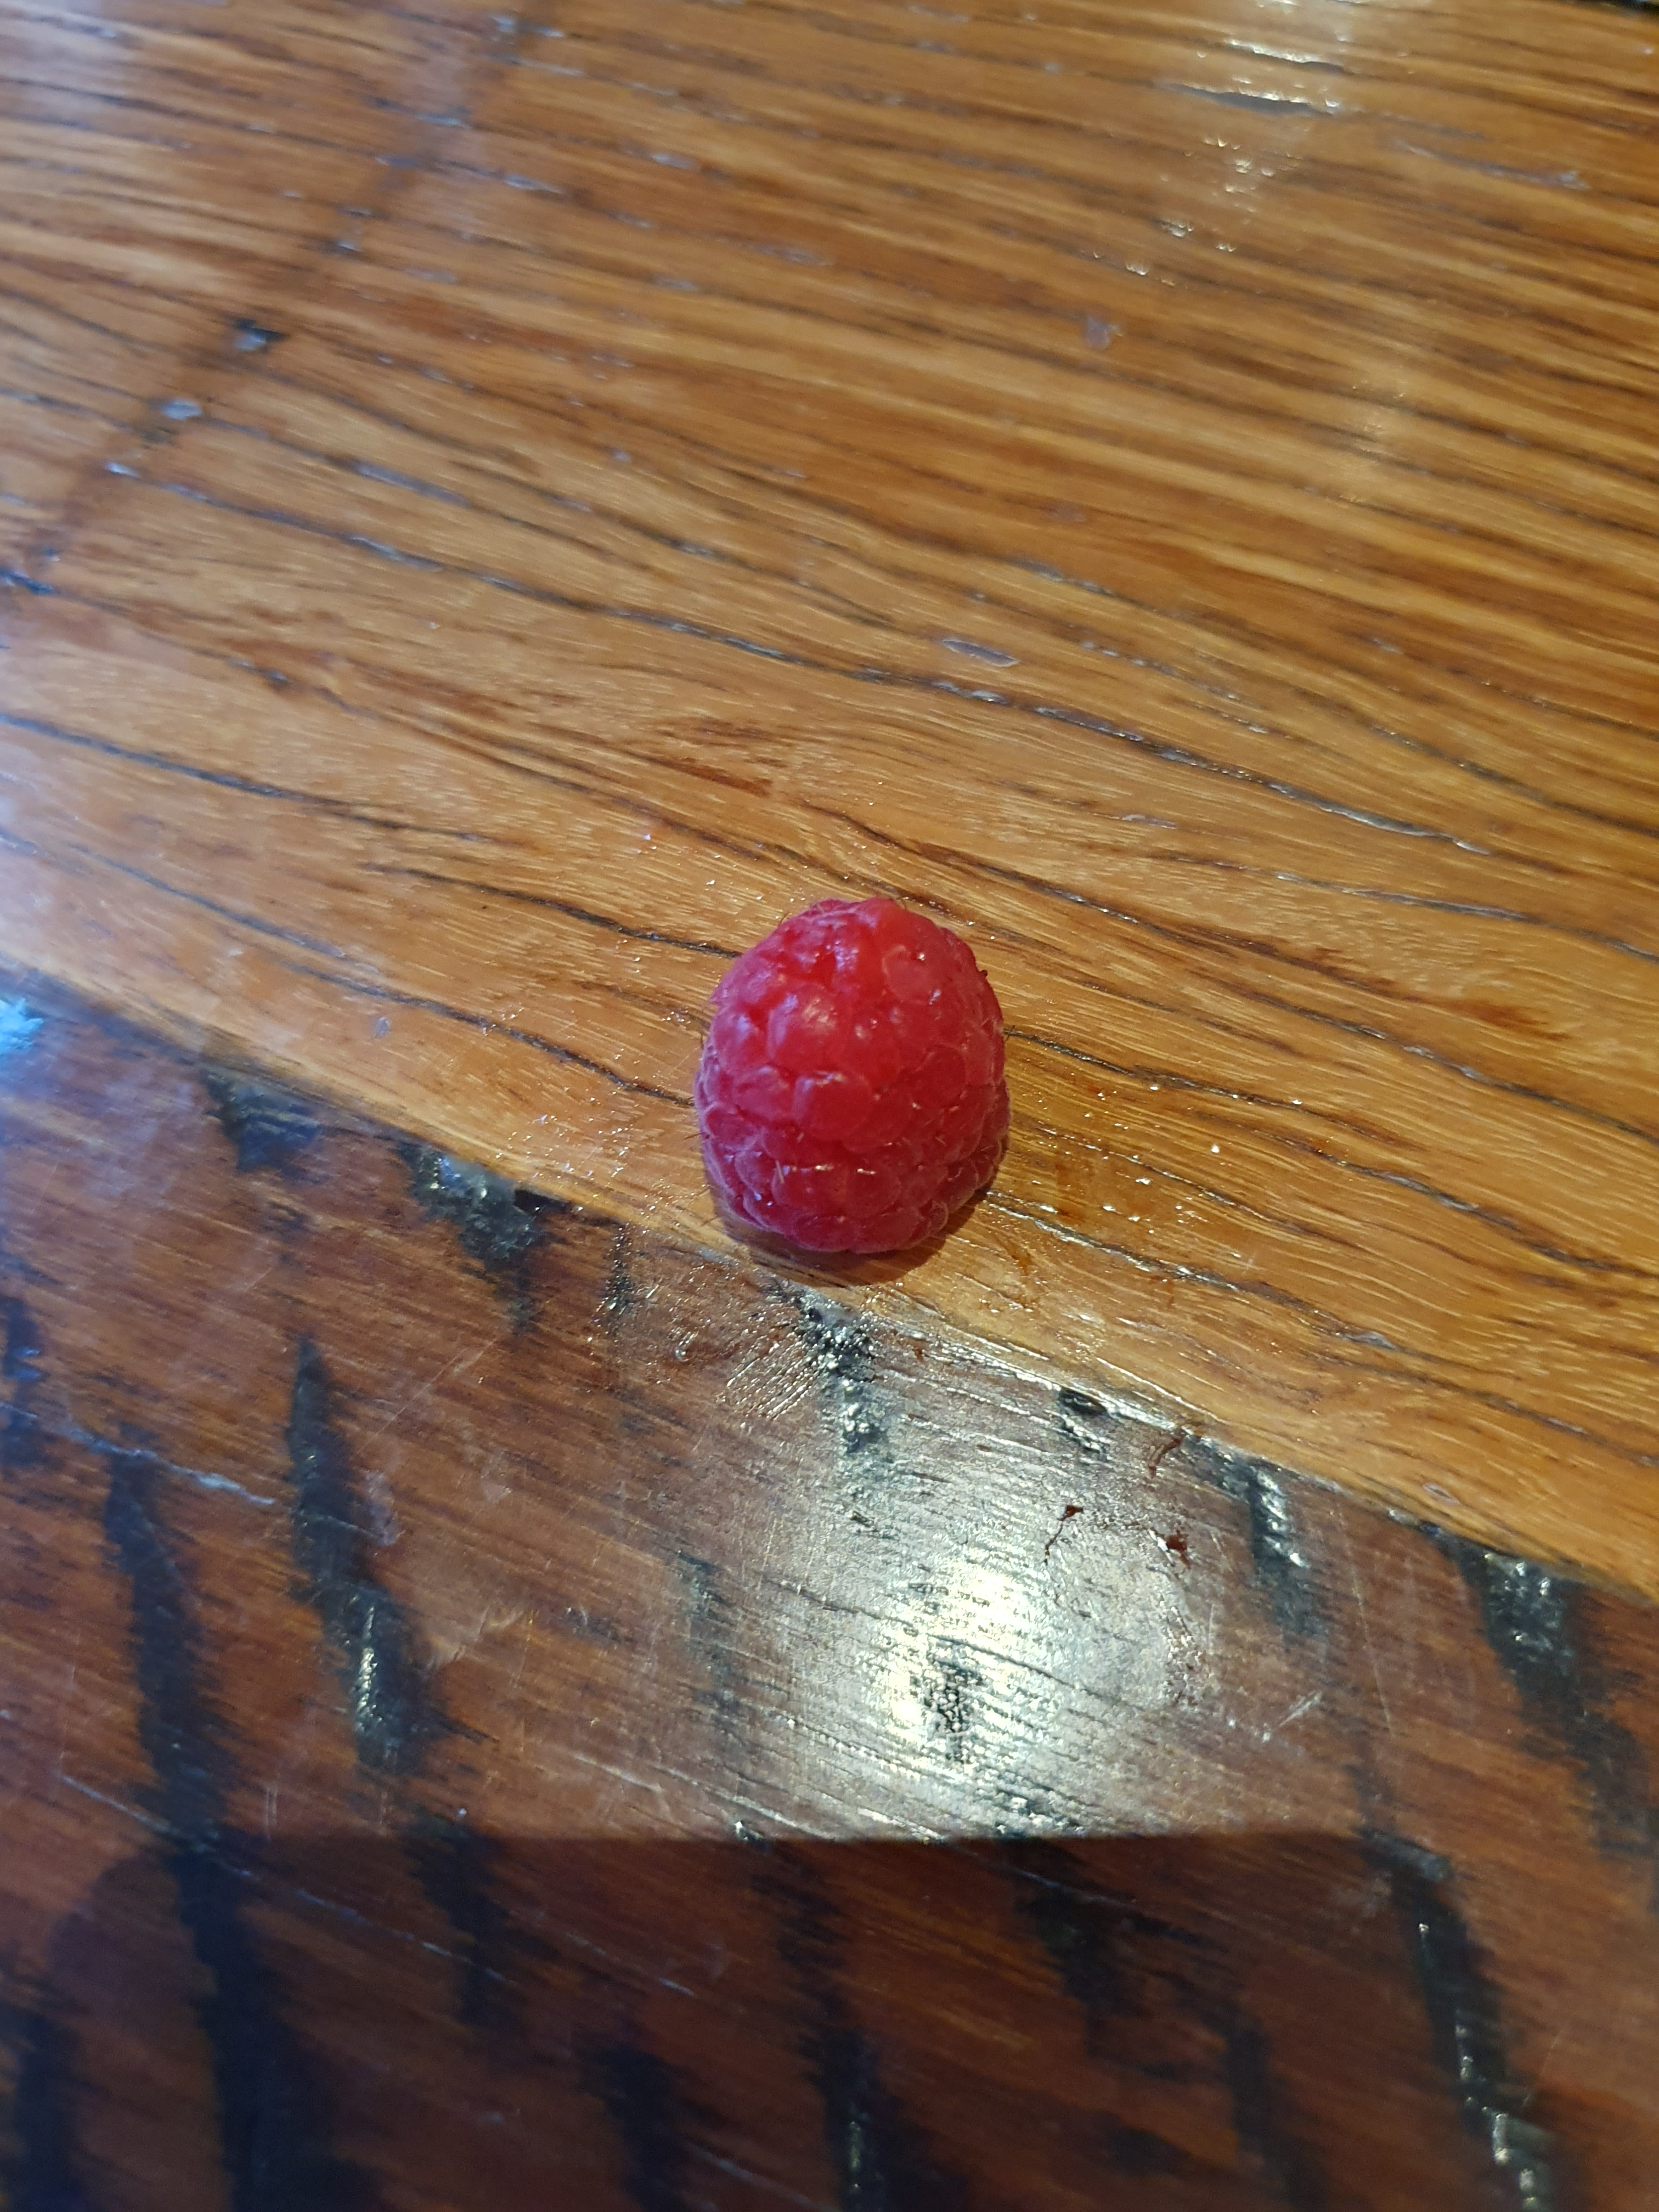raspberry: (647, 862, 1053, 1317)
